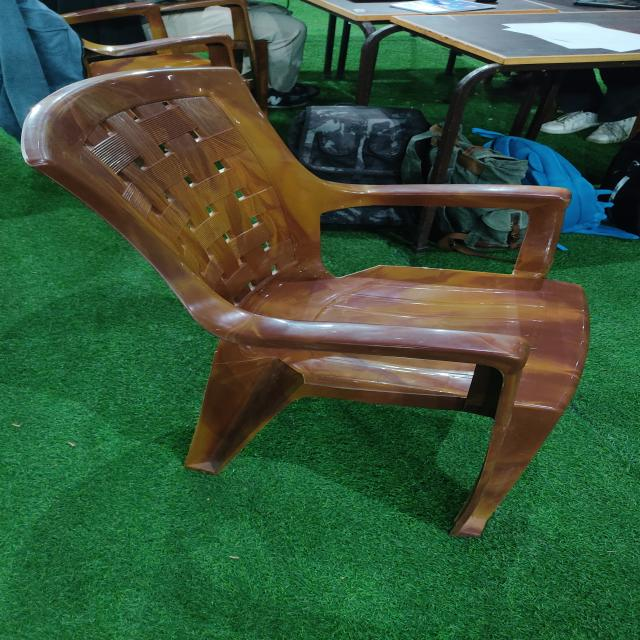Chair: (19, 65, 590, 538), (58, 0, 269, 118)
